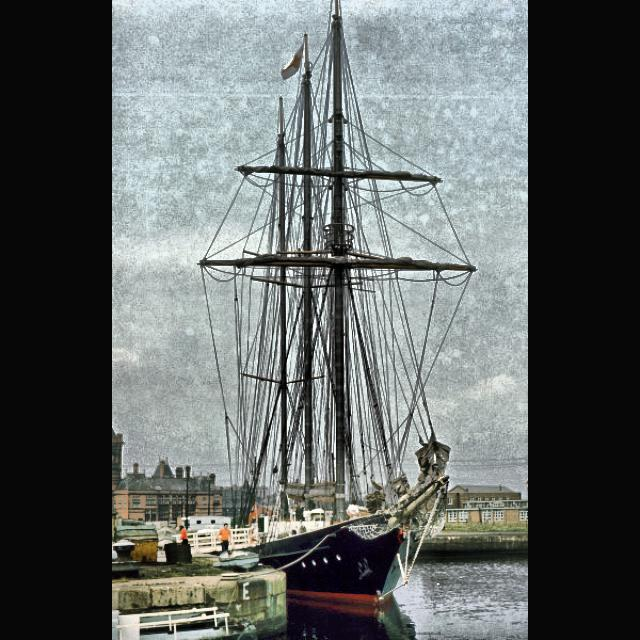sailing_vessel: (195, 14, 480, 618)
